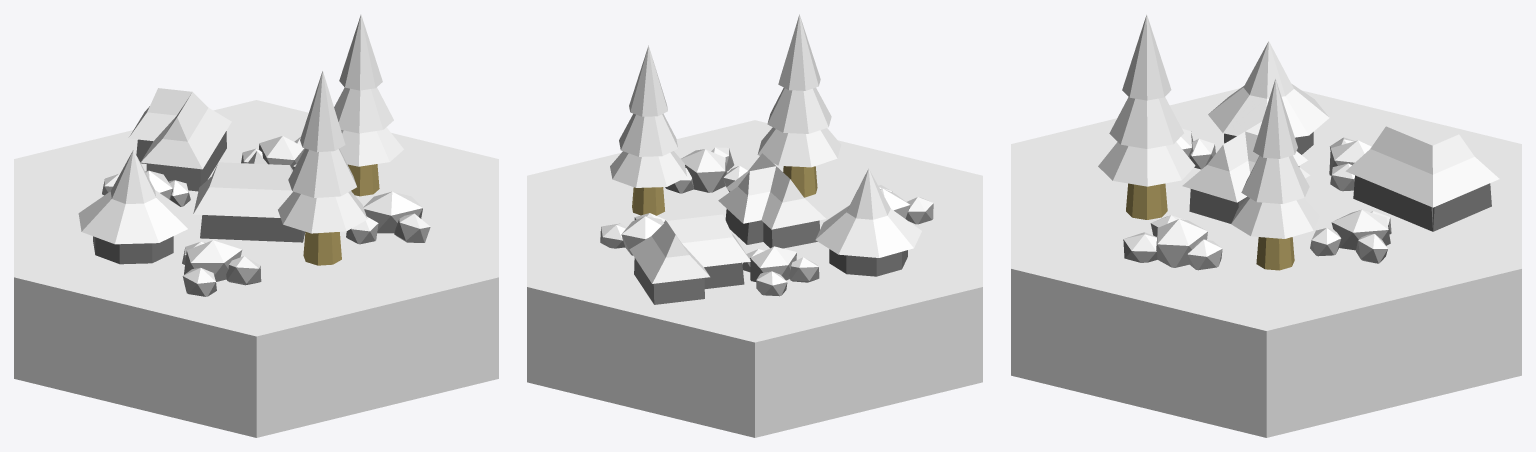
The model's file is Casas_Pinos_Rocas_Nieve_3.fbx.
3 views of the same model, side by side, from view 1: azimuth 30°, elevation 25°; view 2: azimuth 150°, elevation 25°; view 3: azimuth 270°, elevation 25° (orthographic). The views are drawn at different scales.
Visible parts, largest first — view 1: Casas_Pinos_Rocas_Nieve_3; view 2: Casas_Pinos_Rocas_Nieve_3; view 3: Casas_Pinos_Rocas_Nieve_3.
Boxes of the visible parts, bbox=[...] form: Casas_Pinos_Rocas_Nieve_3: bbox=[14, 14, 498, 437]; Casas_Pinos_Rocas_Nieve_3: bbox=[527, 14, 982, 437]; Casas_Pinos_Rocas_Nieve_3: bbox=[1011, 14, 1521, 437].
Size of the model in its own units: 200 by 114 by 173.
